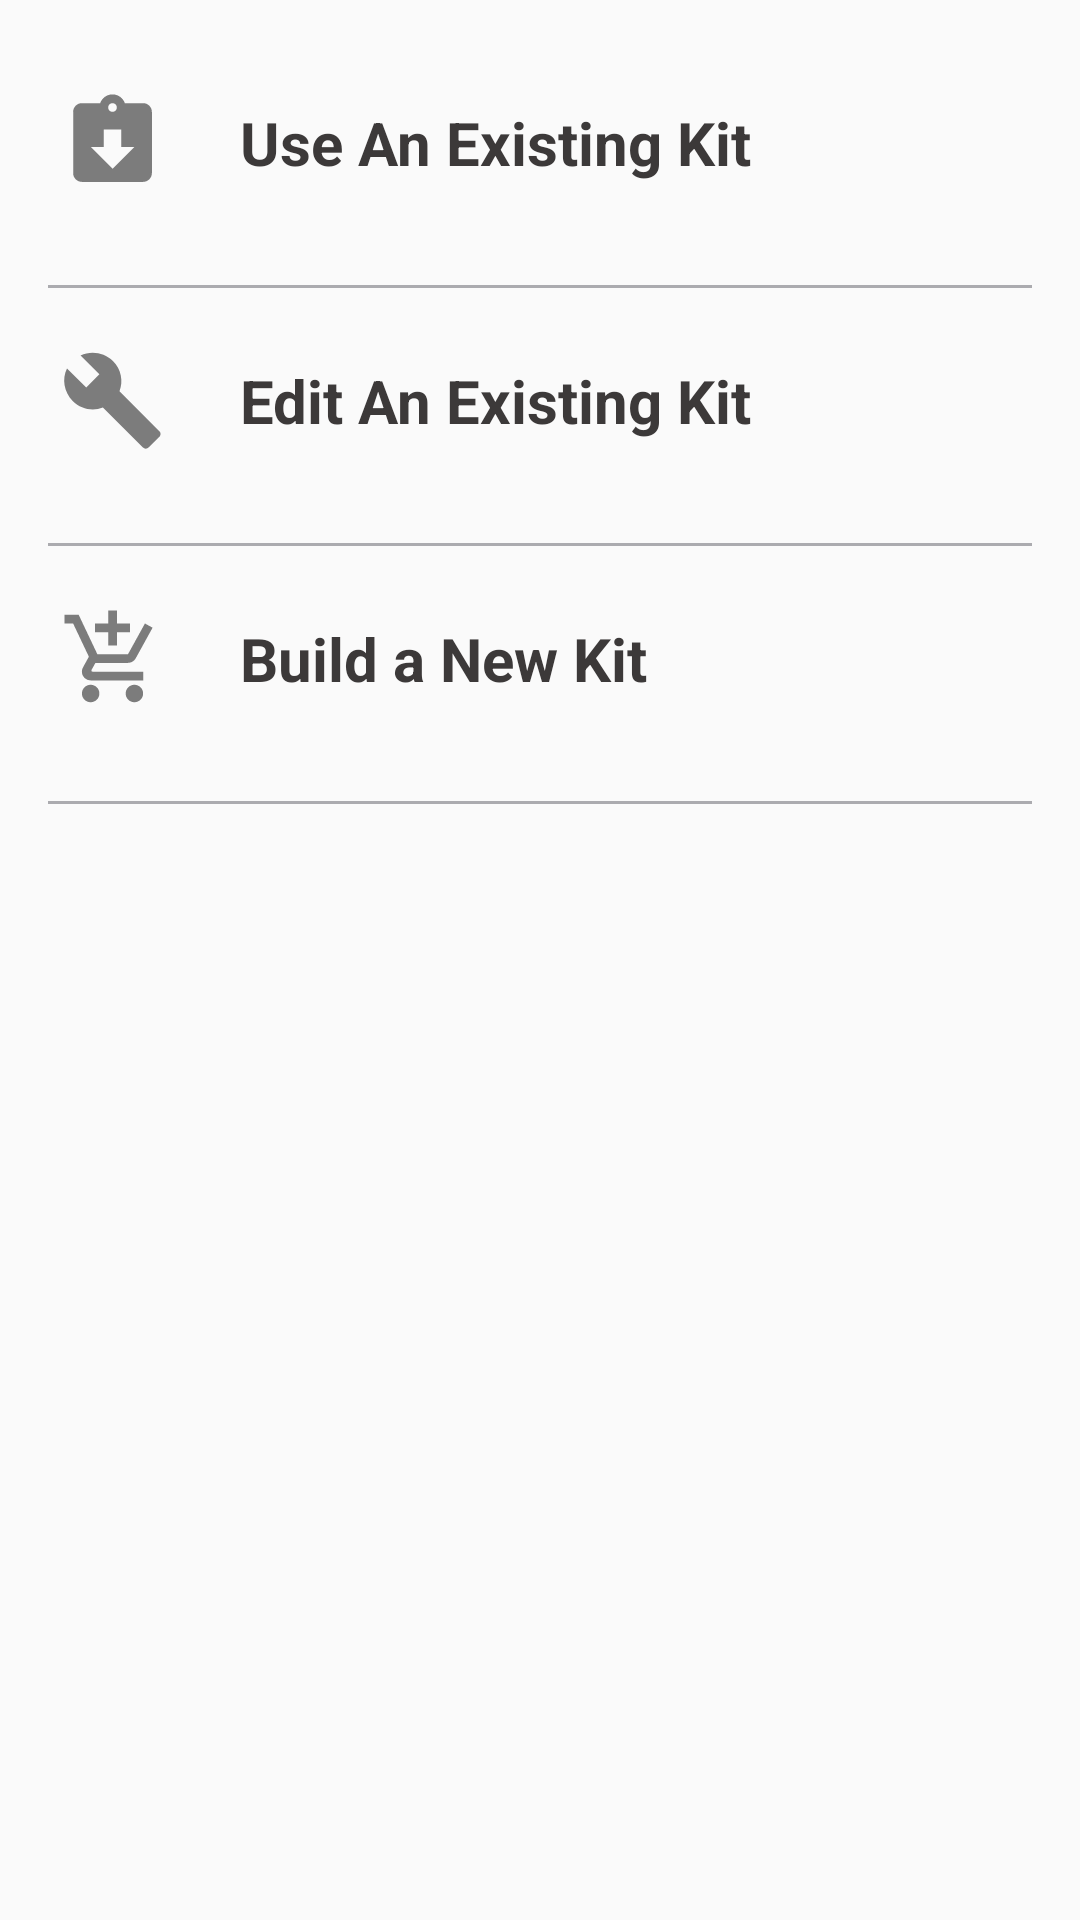

Named icons in this screenshot (1080 x 1920) and their centers, (x,y):
add shopping cart: (108,656)
assignment returned: (112,138)
build: (112,400)
